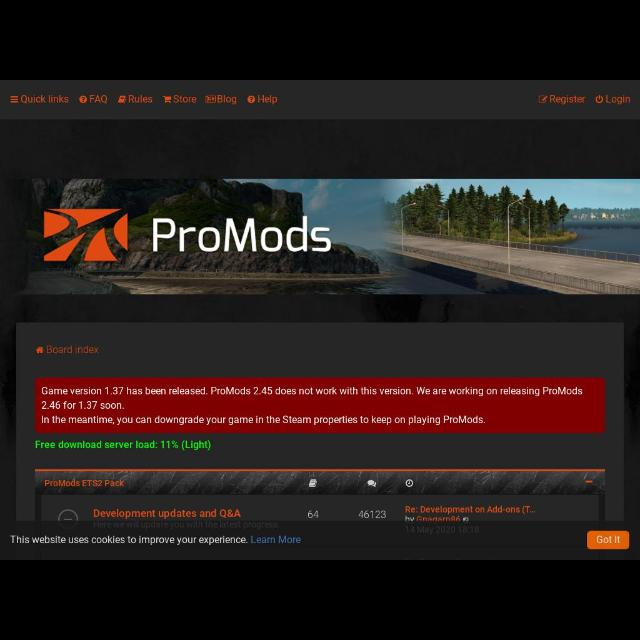backgroundimage: (28, 172, 640, 300)
icon: (60, 510, 78, 528), (115, 91, 126, 107), (161, 94, 173, 108), (364, 476, 378, 488), (594, 94, 606, 106), (204, 92, 214, 106), (246, 94, 256, 108), (34, 342, 44, 356), (306, 478, 320, 488), (538, 93, 548, 105), (404, 479, 414, 489), (10, 93, 18, 105), (80, 94, 86, 106)
image: (43, 206, 135, 268)
link: (250, 535, 304, 545)
text: (39, 386, 584, 426), (147, 216, 339, 264), (12, 532, 304, 548), (403, 505, 537, 523), (96, 520, 280, 532), (34, 440, 212, 450), (93, 509, 243, 519), (405, 524, 485, 538), (46, 478, 126, 488), (46, 345, 98, 355), (20, 94, 70, 104), (358, 508, 390, 522), (171, 92, 195, 108), (550, 96, 588, 106), (304, 505, 322, 523), (608, 94, 630, 108), (128, 94, 152, 106), (259, 93, 279, 107), (218, 92, 236, 106), (89, 93, 108, 105), (598, 536, 626, 544)
textbutton: (588, 528, 630, 552)
toolbar: (1, 82, 639, 114)
